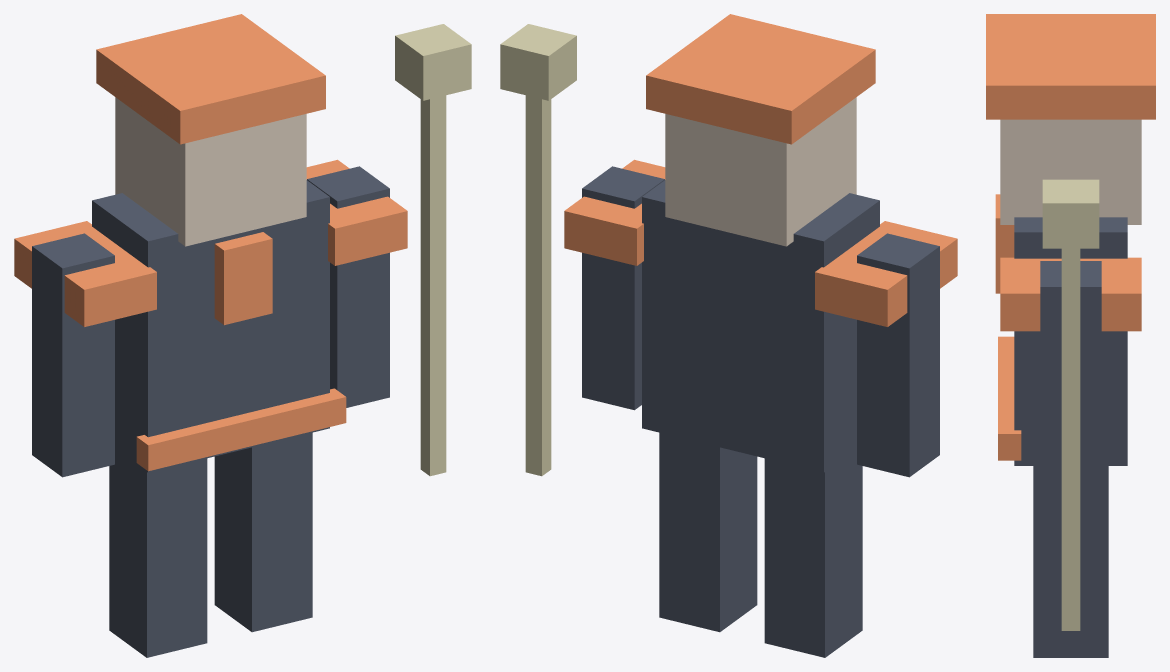
File: 13_rook_voxmere_archivist_of_passenger.glb
3 renders of one model, left to right at view 1: azimuth 30°, elevation 25°; view 2: azimuth 150°, elevation 25°; view 3: azimuth 270°, elevation 25°, orthographic.
Parts seen in each view (by area): view 1: Rook Voxmere, Archivist of Passenger; view 2: Rook Voxmere, Archivist of Passenger; view 3: Rook Voxmere, Archivist of Passenger.
Boxes of the visible parts, x1,y1,x2,y2 form: Rook Voxmere, Archivist of Passenger: (14,14,471,657); Rook Voxmere, Archivist of Passenger: (500,14,957,657); Rook Voxmere, Archivist of Passenger: (986,14,1155,657).
Size of the model in its own units: 1.1 by 1.44 by 0.3914.
